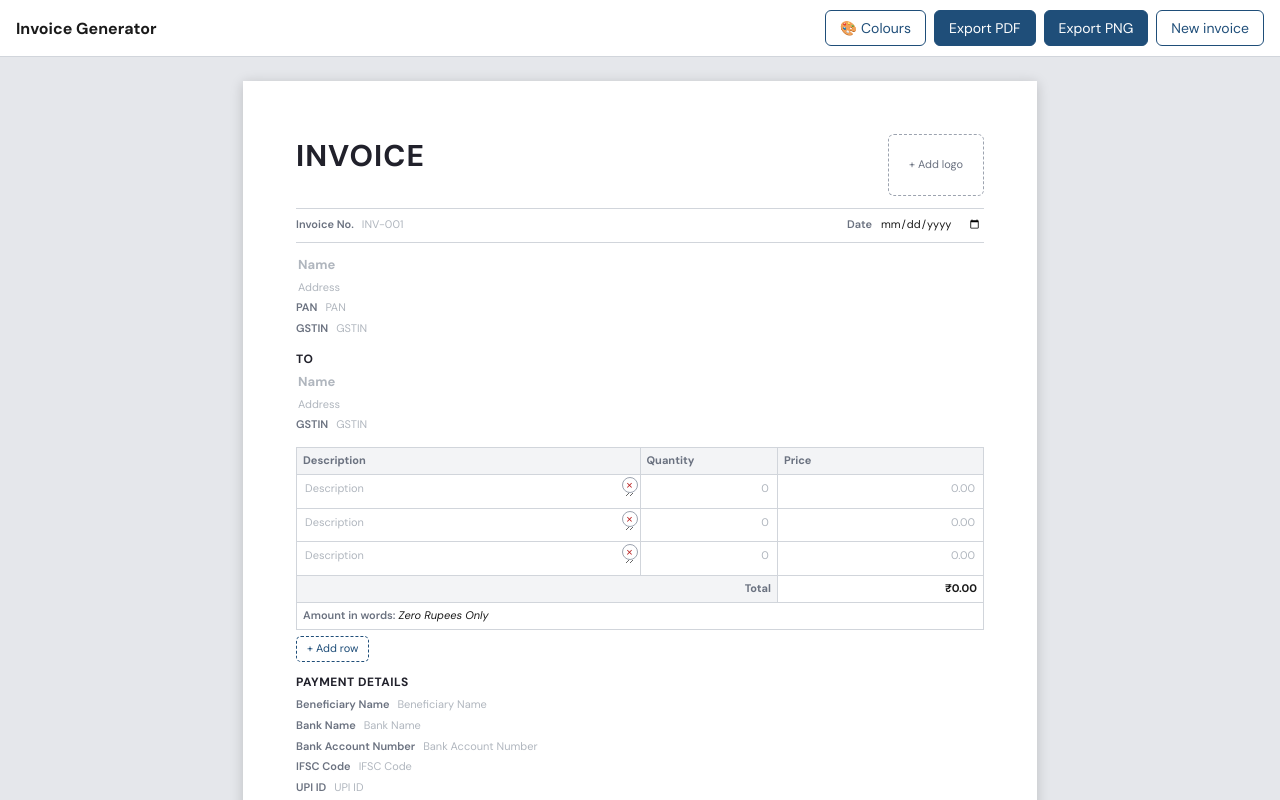
App › hides remove buttons when only one row remains
# Remove down to a single row.
Click the button named "Remove row": (630, 485) [622, 477, 638, 493]
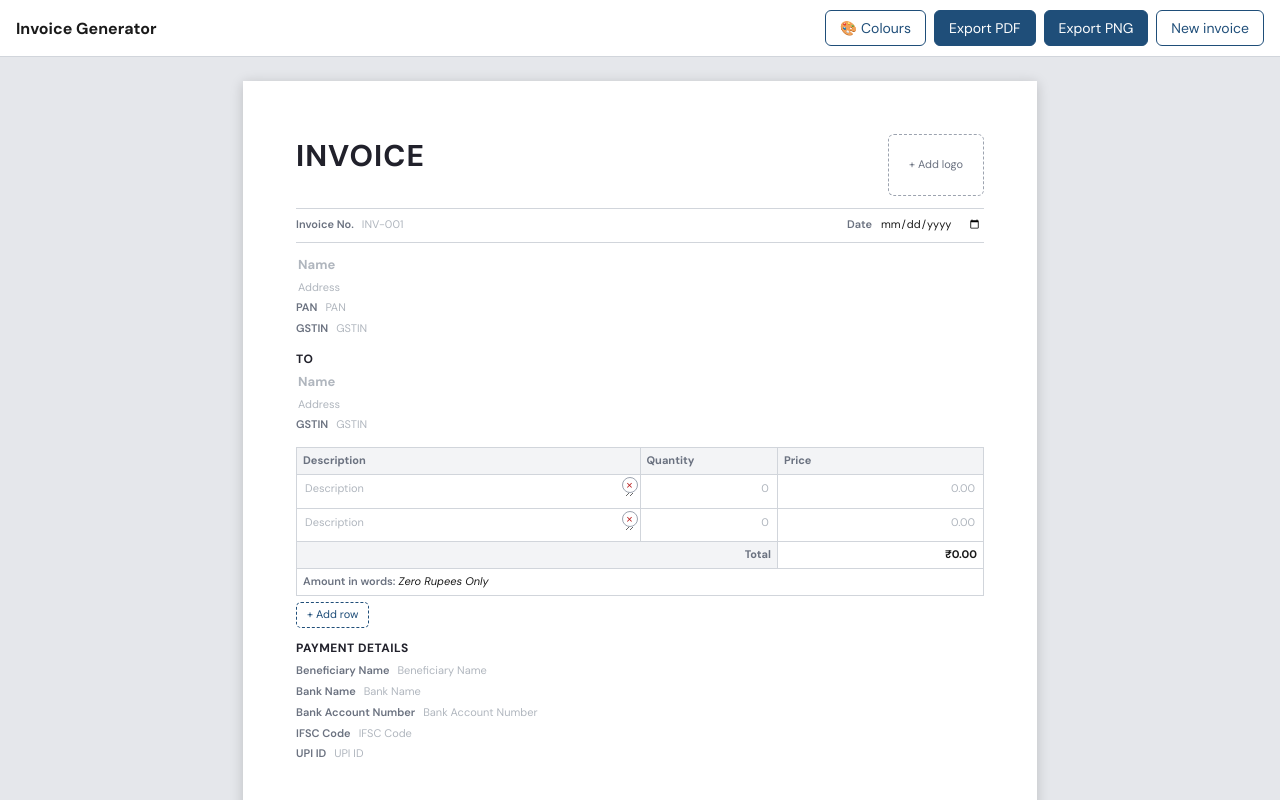
Click the button named "Remove row": (630, 485) [622, 477, 638, 493]
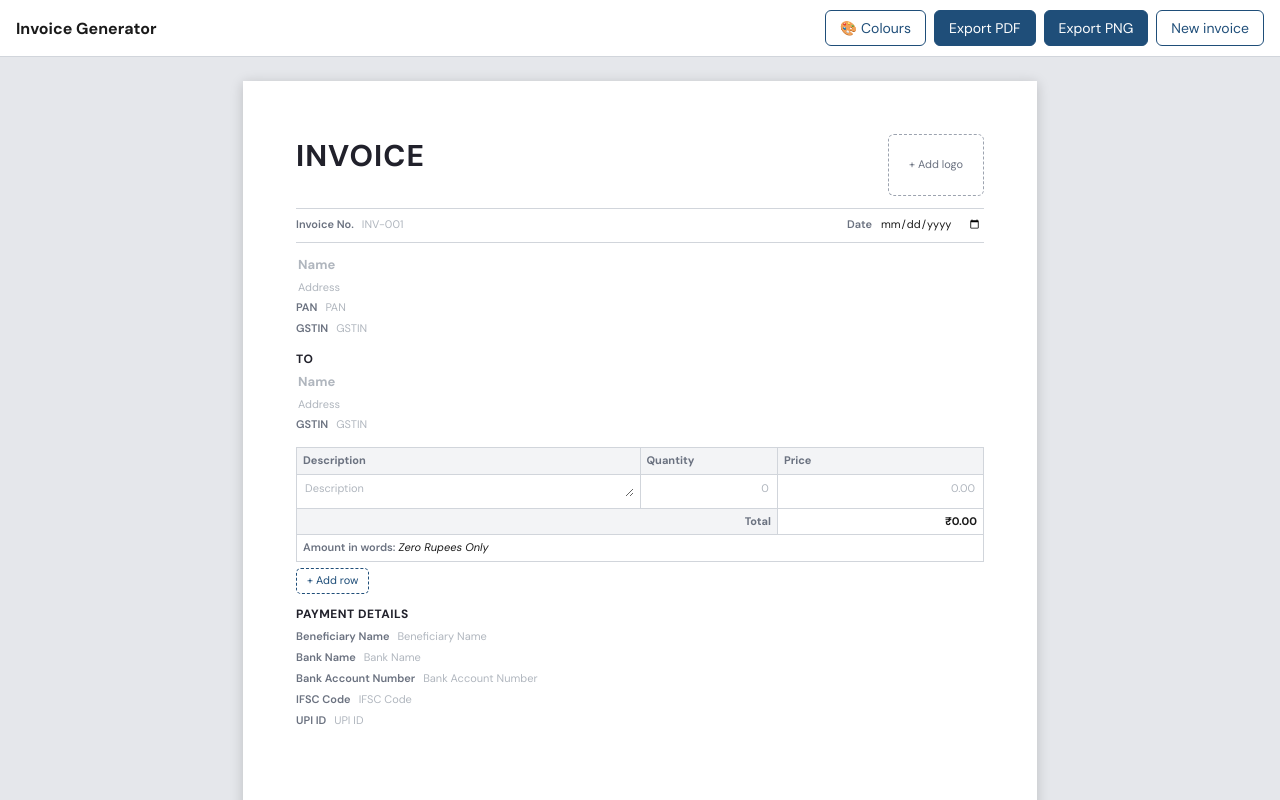
Check: the number of text boxes with placeholder "Description" is 1, box [303, 480, 634, 498]
